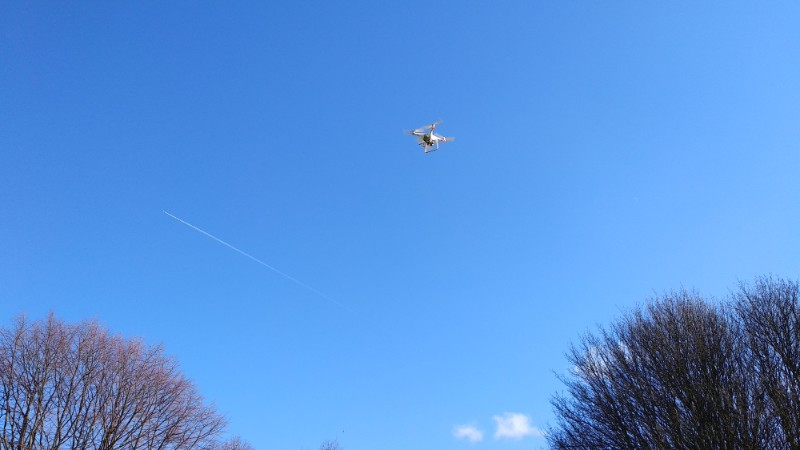drone: (403, 120, 457, 155)
